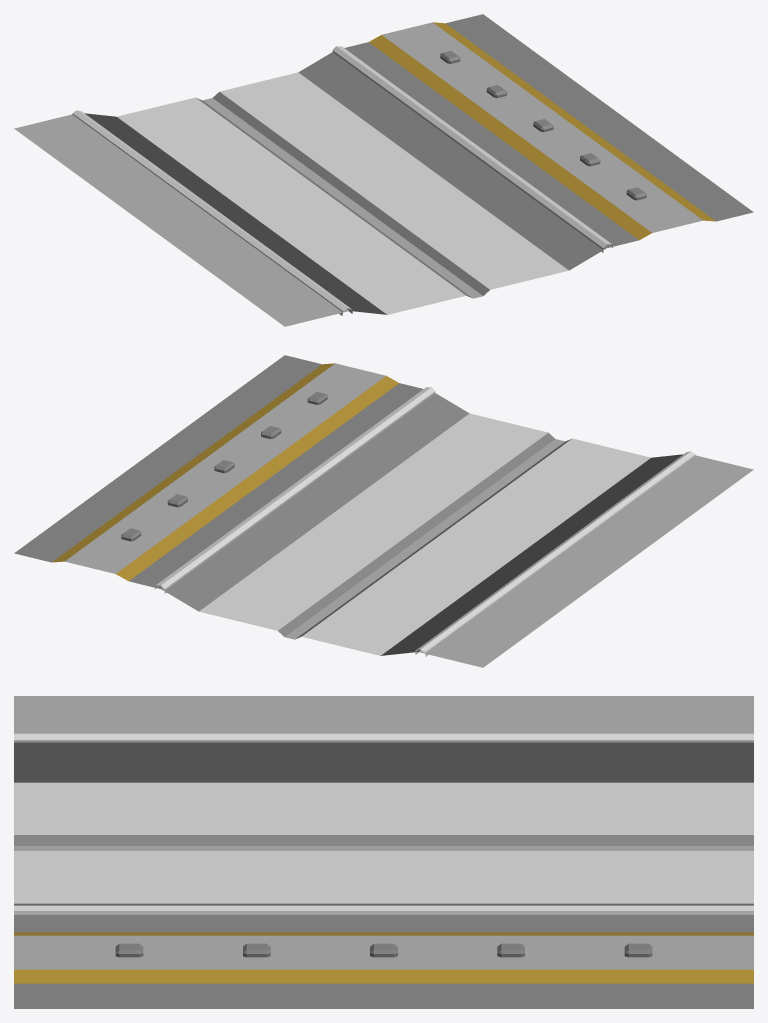
Rendered from Floor_2x2_Vs04.FBX.
3 renders of one model, top to bottom at view 1: azimuth 30°, elevation 25°; view 2: azimuth 150°, elevation 25°; view 3: azimuth 270°, elevation 25°, orthographic. The views are drawn at different scales.
Visible parts, largest first — view 1: Floor_2x2_Vs04; view 2: Floor_2x2_Vs04; view 3: Floor_2x2_Vs04.
Part boxes in pixels (x1,y1,x2,y2): Floor_2x2_Vs04: [14, 14, 753, 326]; Floor_2x2_Vs04: [14, 355, 753, 667]; Floor_2x2_Vs04: [14, 696, 753, 1008].
Size of the model in its own units: 200 by 10.83 by 200.
